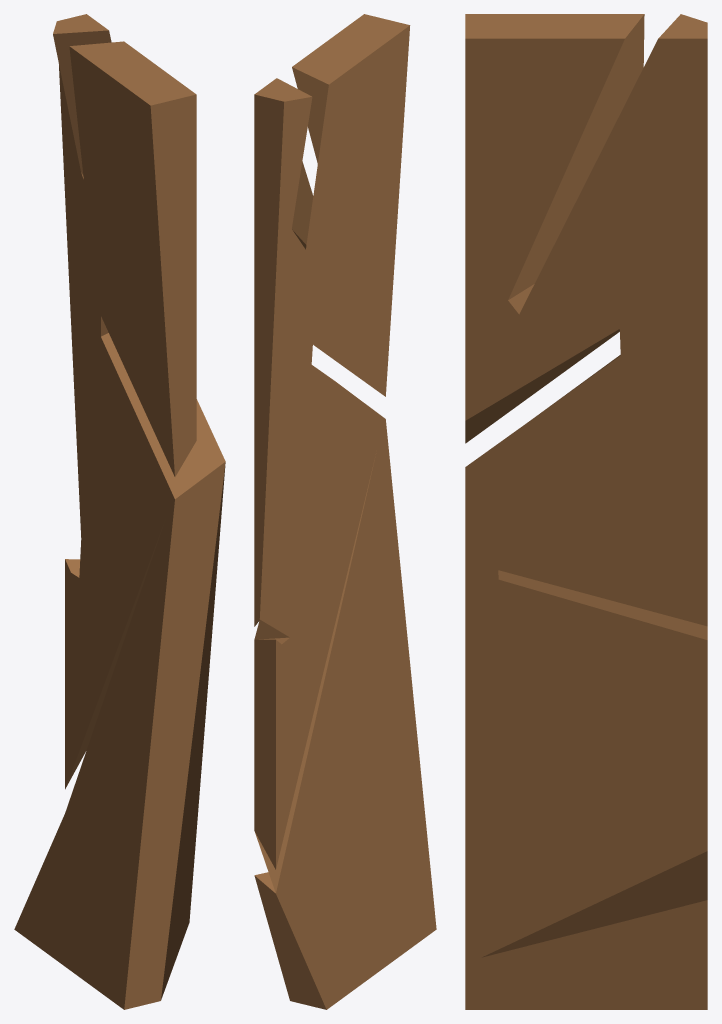
The model's file is MadeiraLowPoly02.fbx.
The picture shows the model from 3 angles, left to right: view 1: azimuth 30°, elevation 25°; view 2: azimuth 150°, elevation 25°; view 3: azimuth 270°, elevation 25°; orthographic projection. The views are drawn at different scales.
Parts seen in each view (by area): view 1: Cube; view 2: Cube; view 3: Cube.
Part boxes in pixels (box(x1,y1,x2,y2)): Cube: box(14, 14, 225, 1009); Cube: box(254, 14, 436, 1009); Cube: box(465, 14, 707, 1009).
Bounding box in the file's own units: 107 × 901 × 200.
